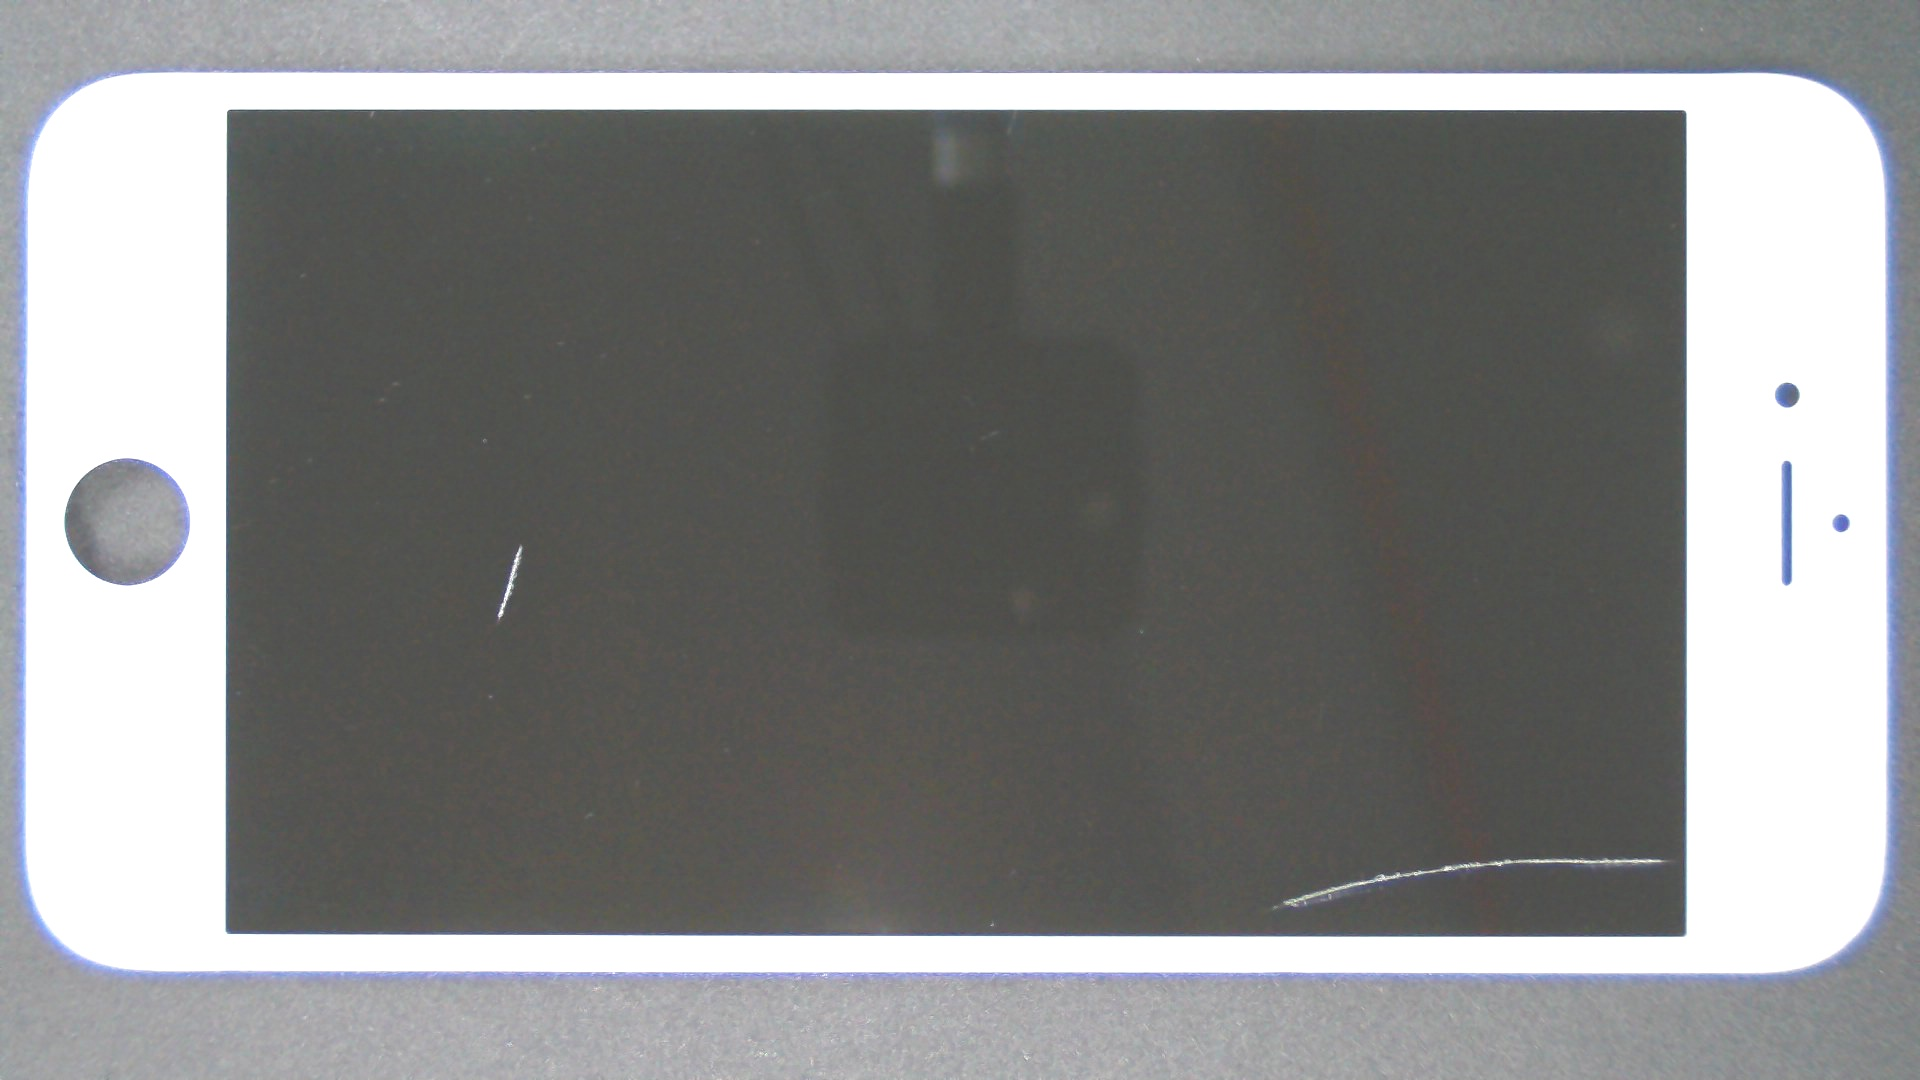oil: (766, 429, 1920, 1080), (261, 272, 779, 818)
